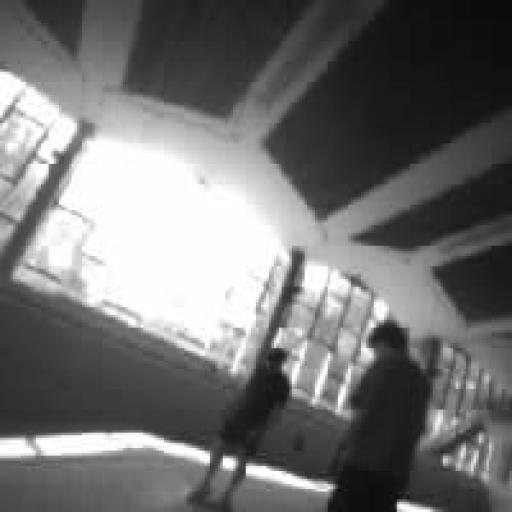human: (328, 320, 430, 511), (190, 349, 291, 509)
